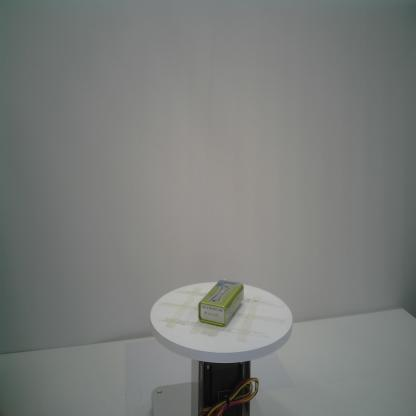Gum: (197, 278, 245, 328)
